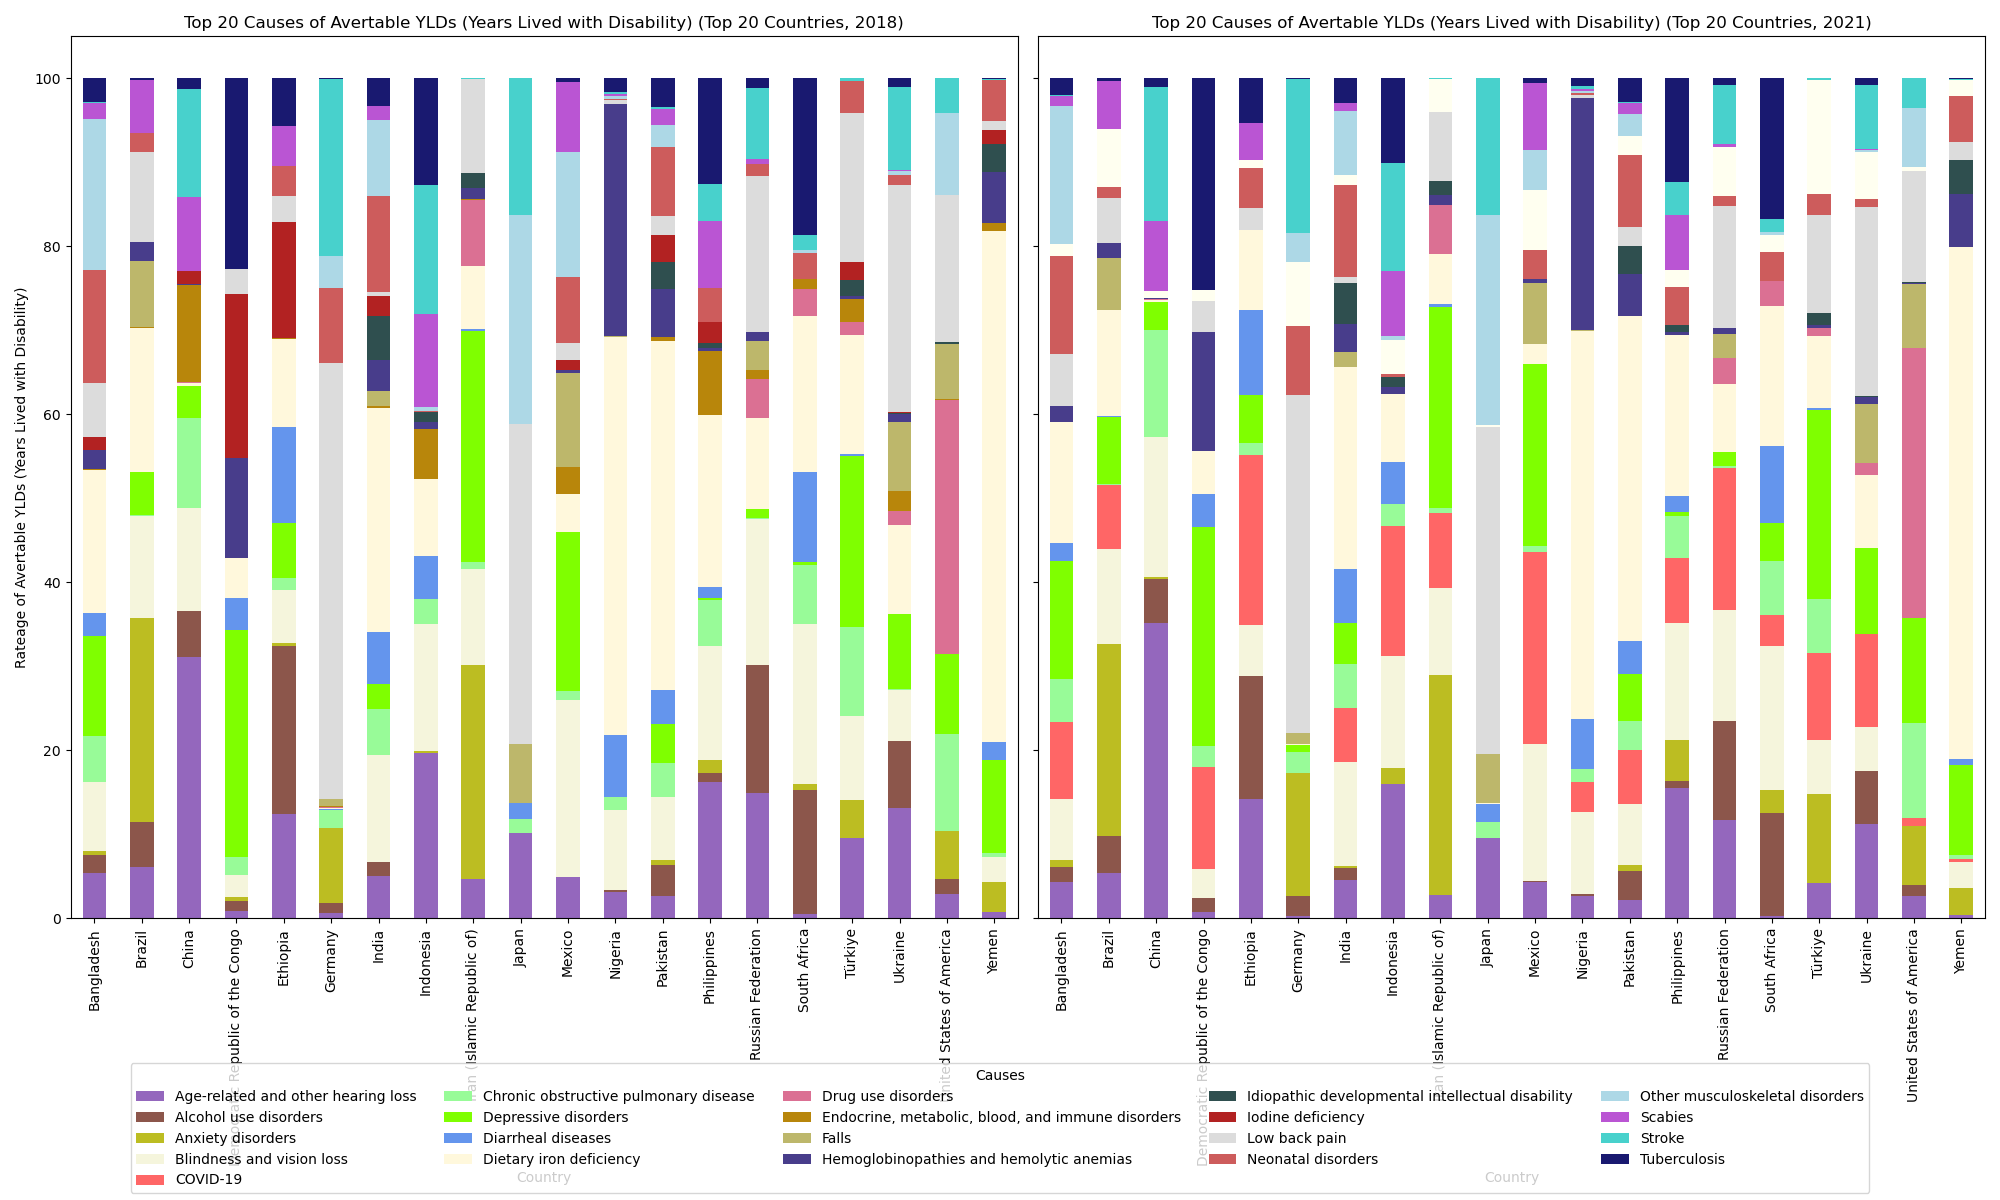

Layout of this report page (visuals, bound fields, positions):
{"tool":"tableau","page":{"name":"Dashboard 5","canvas":[1000,800],"ordinal":8},"visuals":[{"type":"worksheet","title":"Sheet 15 (3)","mark":"Bar","rows":["Avertable Deaths","Avertable DALYs (Disability-Adjusted Life Years)"],"cols":["region"],"box":[8,8,984,392.8]},{"type":"worksheet","title":"Sheet 15 (2)","mark":"Bar","rows":["Avertable Deaths","Avertable DALYs (Disability-Adjusted Life Years)"],"cols":["region","Location"],"box":[8,400.8,984,316]},{"type":"legend","title":"Sheet 15 (2)","param":"[federated.14ii58x11hcgtp1ar12se1m902eu].[none:Cause:nk]","box":[8,716.8,984,75.2]}]}

Visuals, with their boxes on the page's 1000x800 design canvas (x1, y1, x2, y2). These are canvas units, not pixel positions in the 2000x1200 screenshot, which may show the page scaled, cropped or inside an application window:
"Sheet 15 (3)" worksheet (Bar marks): select_region(8, 8, 992, 401)
"Sheet 15 (2)" worksheet (Bar marks): select_region(8, 401, 992, 717)
"Sheet 15 (2)" legend: select_region(8, 717, 992, 792)
